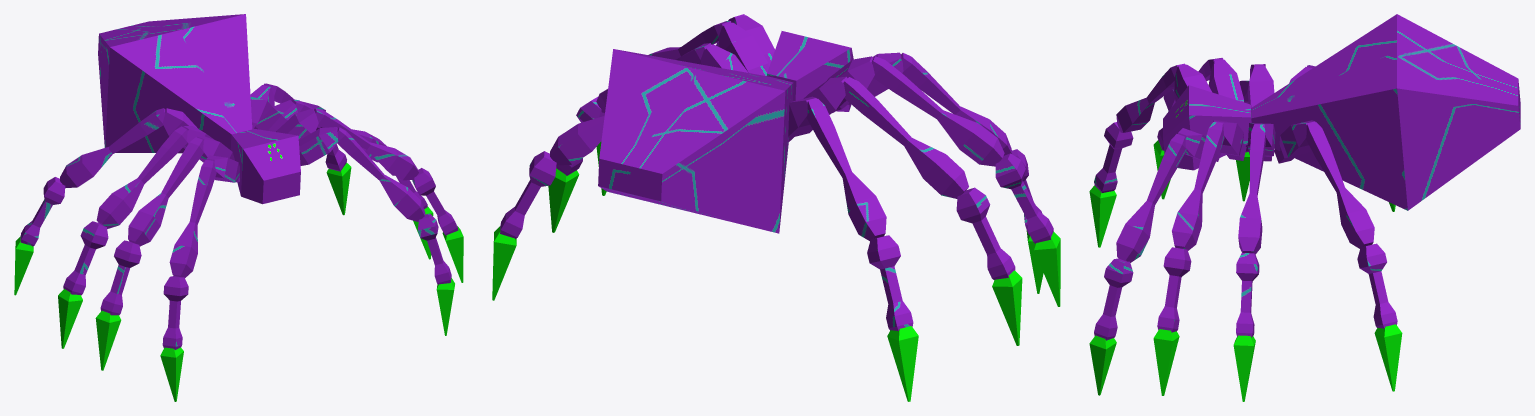
Rendered from StaySpider.obj.
The picture shows the model from 3 angles, left to right: view 1: azimuth 30°, elevation 25°; view 2: azimuth 150°, elevation 25°; view 3: azimuth 270°, elevation 25°; orthographic projection. The views are drawn at different scales.
Parts seen in each view (by area): view 1: 立方体; view 2: 立方体; view 3: 立方体.
Part boxes in pixels (box(x1,y1,x2,y2)): 立方体: box(14, 14, 463, 401); 立方体: box(492, 14, 1060, 401); 立方体: box(1089, 14, 1520, 401).
Size of the model in its own units: 6.5 by 4.06 by 5.87.
Materials: 1 (1 with a texture image).
